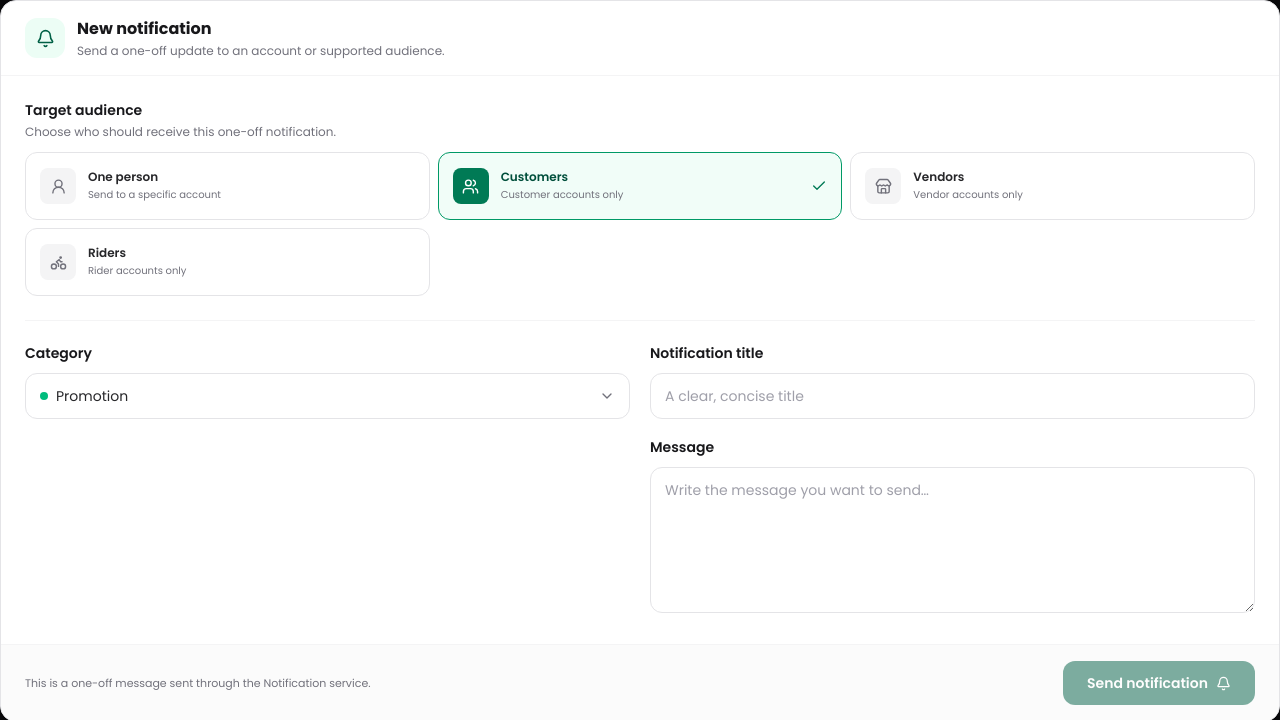
Test case: Super Admin one-off Notifications › uses a styled category menu instead of a native select
Click the button named "Category".
click(92, 396)  # box 25,373 -> 630,419
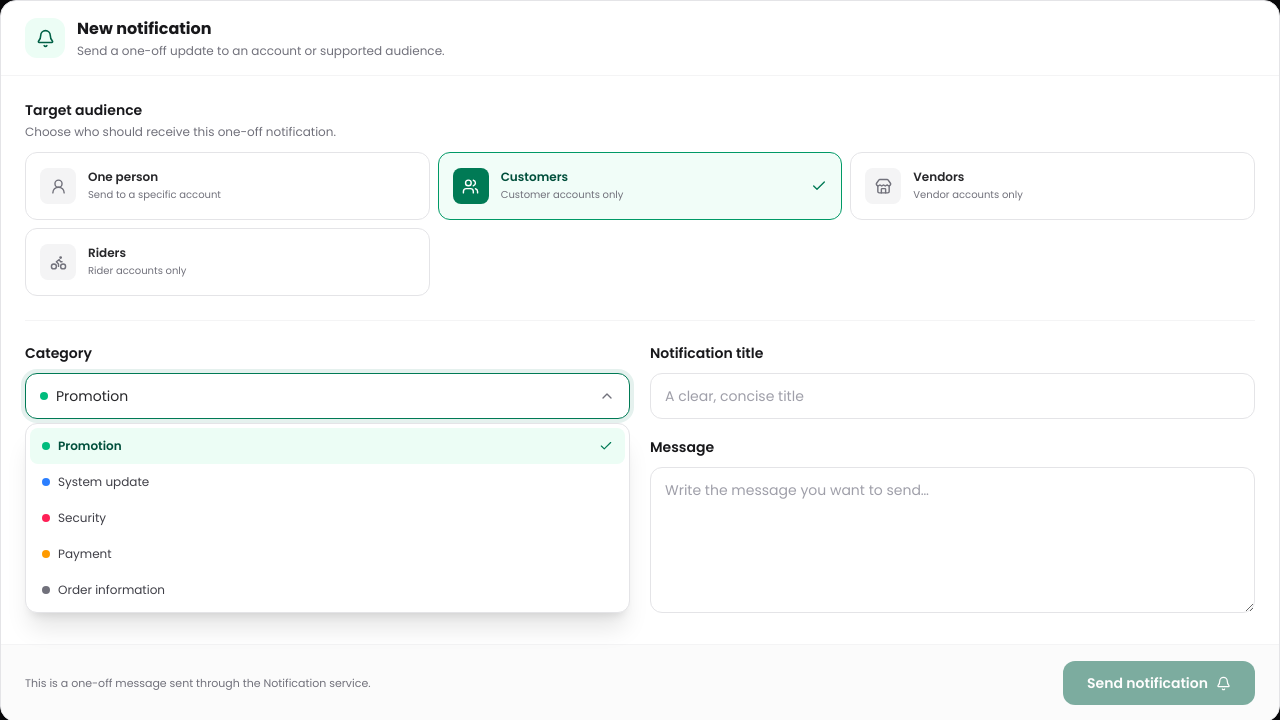
Click the option "Security".
click(82, 518)  # box 30,500 -> 625,536
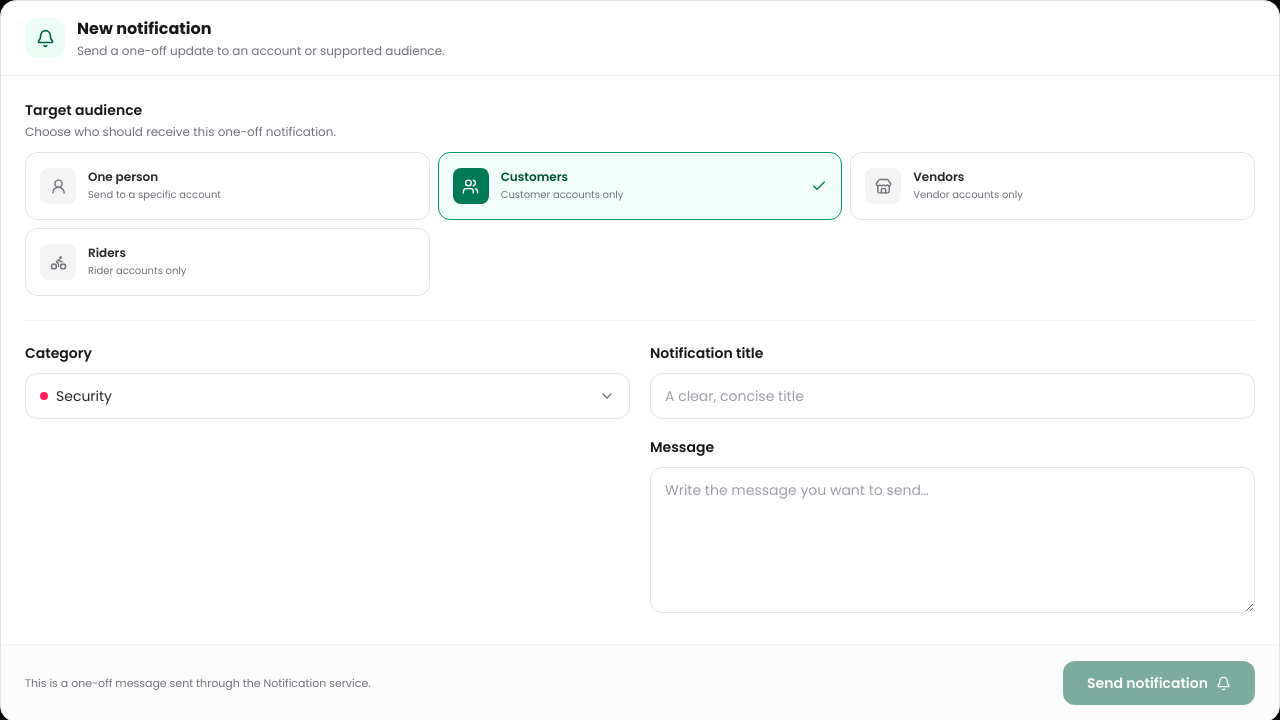
Expected: the button named "Category" reads "Security", 25,373 -> 630,419
Expected: the list is gone
